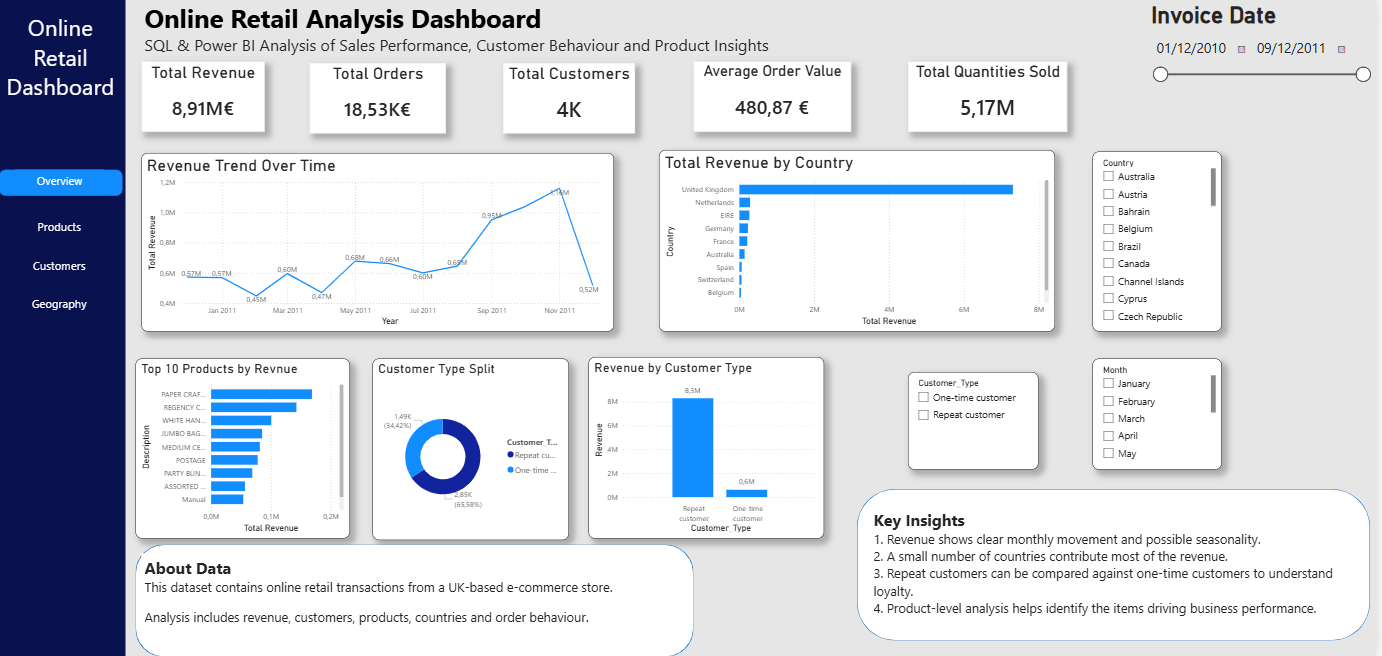

The dashboard page shown, as its layout file describes it:
{"tool":"powerbi","page":{"name":"Page 1","canvas":[2300,1100],"ordinal":0},"visuals":[{"type":"shape","box":[3.3,0,213.3,1100],"z":0},{"type":"shape","box":[4,288,206,44],"z":1000},{"type":"textbox","box":[6.7,20,200,170],"z":2000},{"type":"textbox","box":[32.9,288.6,147.1,42.9],"z":3000},{"type":"textbox","box":[4.7,366.1,200.8,63.8],"z":4000},{"type":"textbox","box":[4.7,429.9,200.8,63.8],"z":5000},{"type":"textbox","box":[4.7,493.7,200.8,63.8],"z":6000},{"type":"textbox","box":[242.5,0,1440,142.5],"z":7000},{"type":"slicer","fields":{"Values":["online_retail.InvoiceDate"]},"box":[1912.5,2.5,387.5,237.5],"z":8000},{"type":"cardVisual","title":"Total Revenue","fields":{"Data":["online_retail.Total Revenue"]},"box":[242.5,107.5,205,117.5],"z":9000},{"type":"cardVisual","title":"Total Orders","fields":{"Data":["online_retail.Total Orders"]},"box":[522.5,110,227.5,117.5],"z":10000},{"type":"cardVisual","title":"Total Customers","fields":{"Data":["online_retail.Total Number of Customers"]},"box":[845,110,220,117.5],"z":11000},{"type":"cardVisual","title":"Average Order Value","fields":{"Data":["online_retail.Average Order Value"]},"box":[1162.5,107.5,262.5,117.5],"z":12000},{"type":"cardVisual","title":"Total Quantities Sold","fields":{"Data":["online_retail.Total Quantity Sold"]},"box":[1520,107.5,265,117.5],"z":13000},{"type":"lineChart","title":"Revenue Trend Over Time","fields":{"Y":["online_retail.Total Revenue"],"Category":["online_retail.InvoiceDate.Variation.Date Hierarchy.Year","online_retail.InvoiceDate.Variation.Date Hierarchy.Month"]},"box":[242.5,260,787.5,297.5],"z":14000},{"type":"clusteredBarChart","fields":{"Category":["online_retail.Country"],"Y":["online_retail.Total Revenue"]},"box":[1105,255,660,302.5],"z":15000},{"type":"clusteredBarChart","title":"Top 10 Products by Revnue","fields":{"Category":["online_retail.Description"],"Y":["online_retail.Total Revenue"]},"box":[232.5,602.5,357.5,300],"z":16000},{"type":"donutChart","title":"Customer Type Split","fields":{"Category":["Customer Summary.Customer_Type"],"Y":["Count(Customer Summary.CustomerID)"]},"box":[627.5,602.5,327.5,302.5],"z":17000},{"type":"clusteredColumnChart","title":"Revenue by Customer Type","fields":{"Category":["Customer Summary.Customer_Type"],"Y":["Sum(Customer Summary.Customer_Revenue)"]},"box":[987.5,600,392.5,302.5],"z":18000},{"type":"slicer","fields":{"Values":["online_retail.Country"]},"box":[1827.5,257.5,215,300],"z":19000},{"type":"slicer","fields":{"Values":["online_retail.InvoiceDate.Variation.Date Hierarchy.Month"]},"box":[1827.5,602.5,215,185],"z":20000},{"type":"slicer","fields":{"Values":["Customer Summary.Customer_Type"]},"box":[1520,625,217.5,162.5],"z":21000},{"type":"shape","box":[1435,820,855,252.5],"z":22000},{"type":"textbox","box":[1457.5,847.5,815,202.5],"z":23000},{"type":"shape","box":[232.5,912.5,930,187.5],"z":24000},{"type":"textbox","box":[242.5,927.5,862.5,150],"z":25000}]}

Visuals, with their boxes on the page's 2300x1100 design canvas (x1, y1, x2, y2). These are canvas units, not pixel positions in the 1382x656 screenshot, which may show the page scaled, cropped or inside an application window:
shape: (left=3, top=0, right=217, bottom=1100)
shape: (left=4, top=288, right=210, bottom=332)
textbox: (left=7, top=20, right=207, bottom=190)
textbox: (left=33, top=289, right=180, bottom=332)
textbox: (left=5, top=366, right=206, bottom=430)
textbox: (left=5, top=430, right=206, bottom=494)
textbox: (left=5, top=494, right=206, bottom=558)
textbox: (left=242, top=0, right=1682, bottom=142)
slicer - online_retail.InvoiceDate: (left=1912, top=2, right=2300, bottom=240)
"Total Revenue" cardVisual: (left=242, top=108, right=448, bottom=225)
"Total Orders" cardVisual: (left=522, top=110, right=750, bottom=228)
"Total Customers" cardVisual: (left=845, top=110, right=1065, bottom=228)
"Average Order Value" cardVisual: (left=1162, top=108, right=1425, bottom=225)
"Total Quantities Sold" cardVisual: (left=1520, top=108, right=1785, bottom=225)
"Revenue Trend Over Time" lineChart: (left=242, top=260, right=1030, bottom=558)
clusteredBarChart - online_retail.Country x online_retail.Total Revenue: (left=1105, top=255, right=1765, bottom=558)
"Top 10 Products by Revnue" clusteredBarChart: (left=232, top=602, right=590, bottom=902)
"Customer Type Split" donutChart: (left=628, top=602, right=955, bottom=905)
"Revenue by Customer Type" clusteredColumnChart: (left=988, top=600, right=1380, bottom=902)
slicer - online_retail.Country: (left=1828, top=258, right=2042, bottom=558)
slicer - online_retail.InvoiceDate.Variation.Date Hierarchy.Month: (left=1828, top=602, right=2042, bottom=788)
slicer - Customer Summary.Customer_Type: (left=1520, top=625, right=1738, bottom=788)
shape: (left=1435, top=820, right=2290, bottom=1072)
textbox: (left=1458, top=848, right=2272, bottom=1050)
shape: (left=232, top=912, right=1162, bottom=1100)
textbox: (left=242, top=928, right=1105, bottom=1078)
